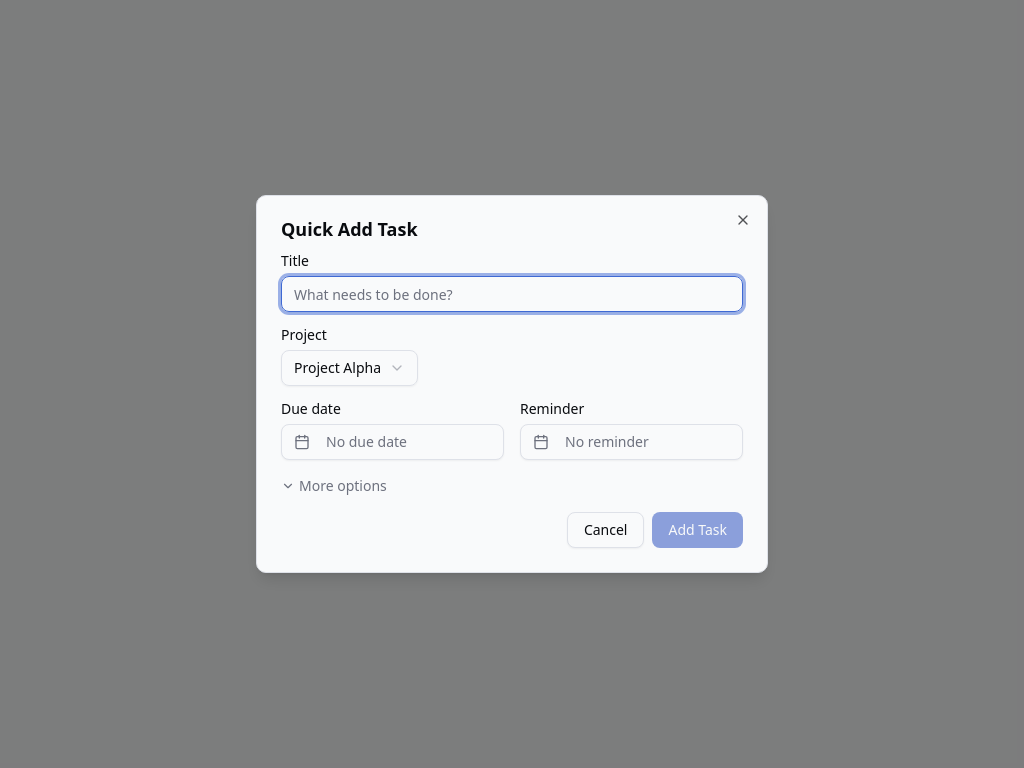
Test: QuickAddTaskDialog › toggles more options section
Expected: the heading "Quick Add Task" is shown, [281, 217, 418, 241]
Expected: the field labelled "Description" is not shown
Click the button "More options". click: (334, 486)
box: [281, 476, 387, 496]
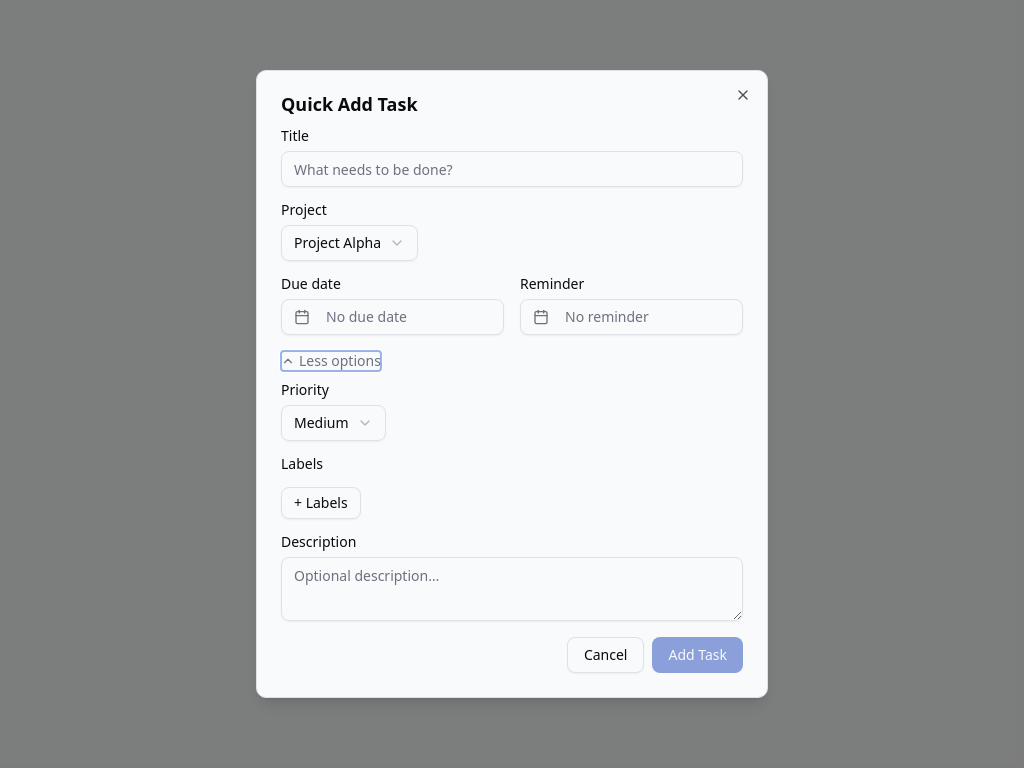
Result: the text box labelled "Description" is shown at [281, 557, 743, 621]
Result: the text "Labels" is shown at [281, 454, 323, 473]
Result: the text "Priority" is shown at [281, 380, 329, 399]
